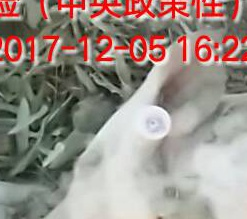text: (127, 98, 181, 146)
